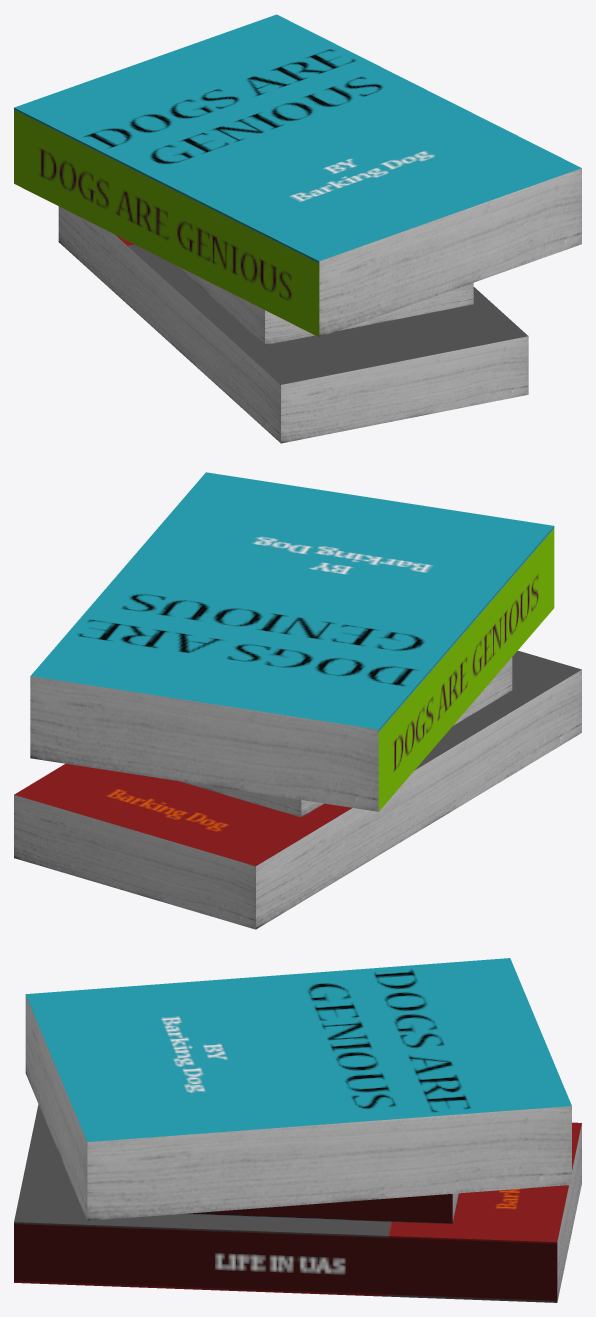
Rendered from Book_Pile_07.FBX.
3 views of the same model, one above another, from view 1: azimuth 30°, elevation 25°; view 2: azimuth 150°, elevation 25°; view 3: azimuth 270°, elevation 25° (orthographic). The views are drawn at different scales.
Visible parts, largest first — view 1: Book_Pile_07; view 2: Book_Pile_07; view 3: Book_Pile_07.
Boxes of the visible parts, bbox=[...] form: Book_Pile_07: bbox=[14, 14, 581, 443]; Book_Pile_07: bbox=[14, 472, 581, 929]; Book_Pile_07: bbox=[14, 958, 581, 1302].
Size of the model in its own units: 0.2231 by 0.1049 by 0.2909.
